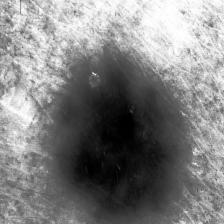Benign Marking or Mole: (52, 67, 178, 223)
